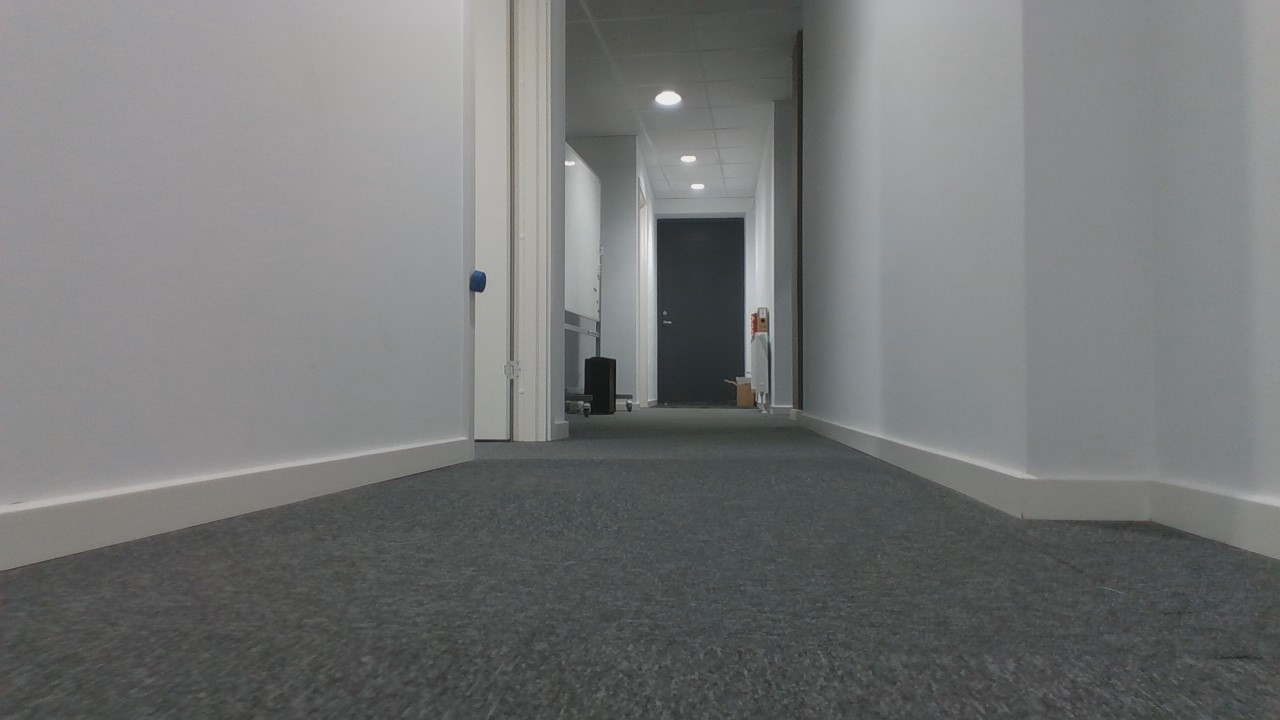alfa: (467, 268, 488, 293)
